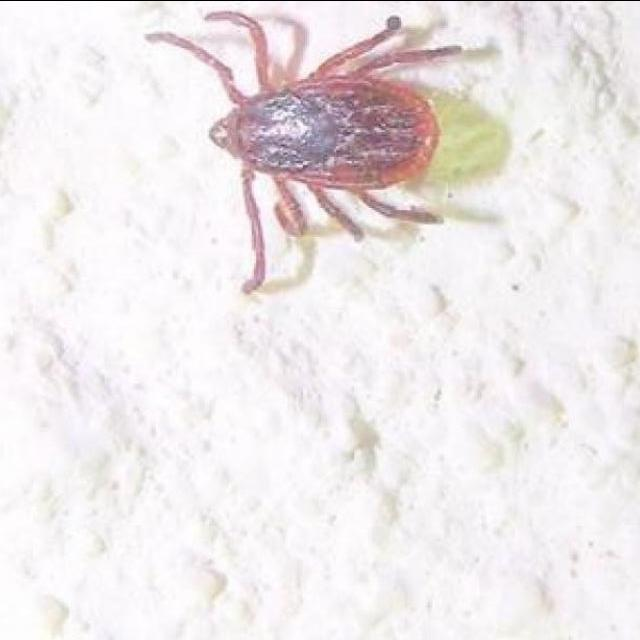Rhipicephalus Sanguineus-F: (147, 10, 452, 295)
